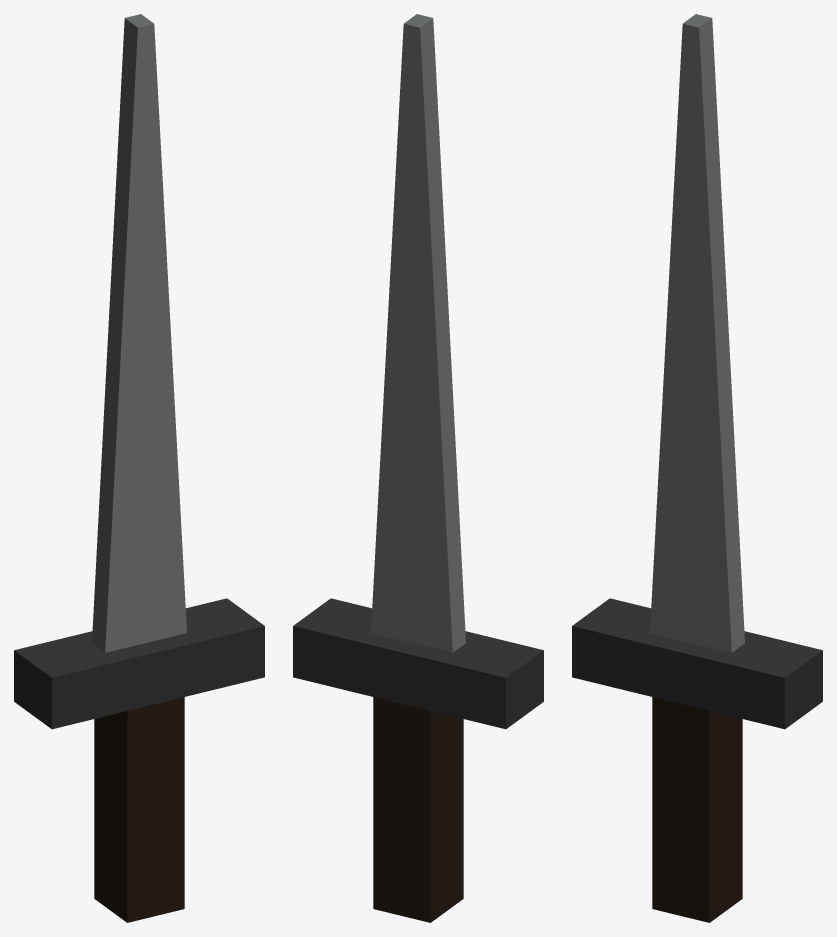
File: dirk.glb
3 renders of one model, left to right at view 1: azimuth 30°, elevation 25°; view 2: azimuth 150°, elevation 25°; view 3: azimuth 330°, elevation 25°, orthographic.
Visible parts, largest first — view 1: Dirk; view 2: Dirk; view 3: Dirk.
Boxes of the visible parts, x1=… form: Dirk: x1=14, y1=14, x2=264, y2=922; Dirk: x1=293, y1=14, x2=543, y2=922; Dirk: x1=572, y1=14, x2=822, y2=922.
Bounding box in the file's own units: 0.13 × 0.515 × 0.04.
